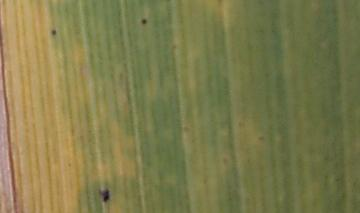tarspot: (97, 186, 112, 205), (140, 17, 149, 26), (49, 28, 57, 37), (215, 1, 223, 9)
